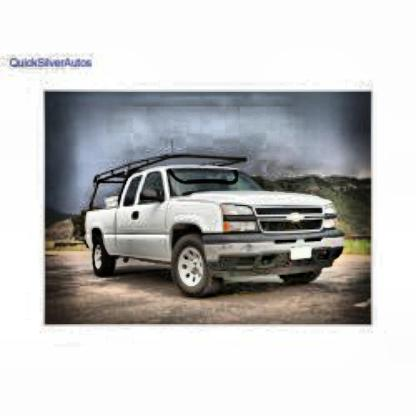Chevrolet Silverado 1500 Classic Extended Cab 2007: (81, 154, 348, 302)
